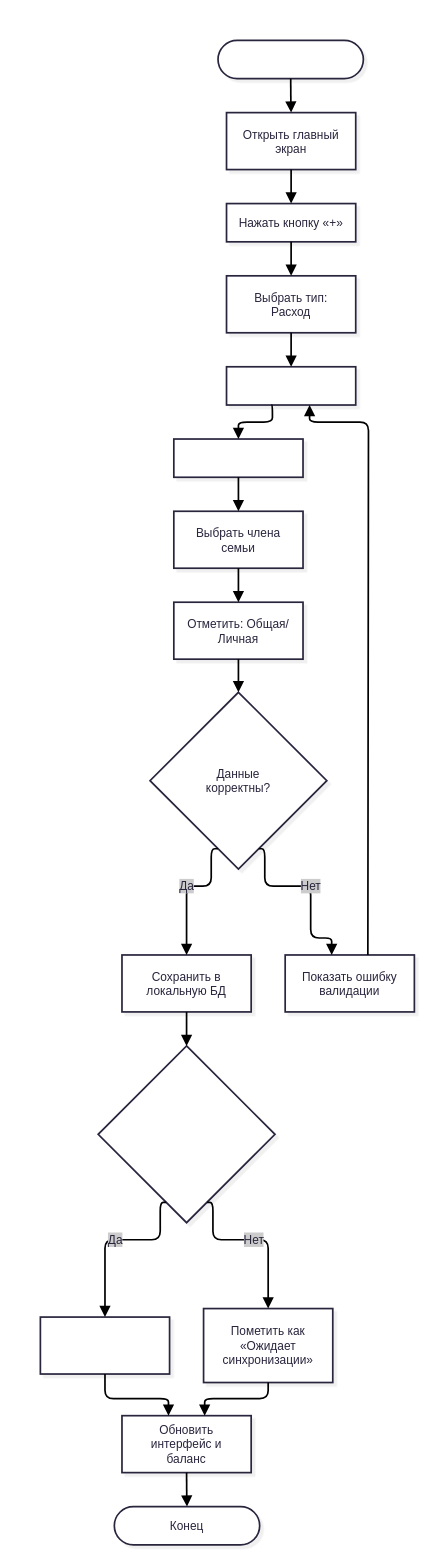
This 433x1563 diagram has some shape labels left out. The centre of each missing label's shape, as x and y in pixels:
"Ввести сумму" goes at [292,387].
"Выбрать категорию" goes at [240,459].
"Есть интернет?" goes at [188,1136].
"Начало" goes at [292,60].
"Синхронизировать с облаком" goes at [106,1347].
